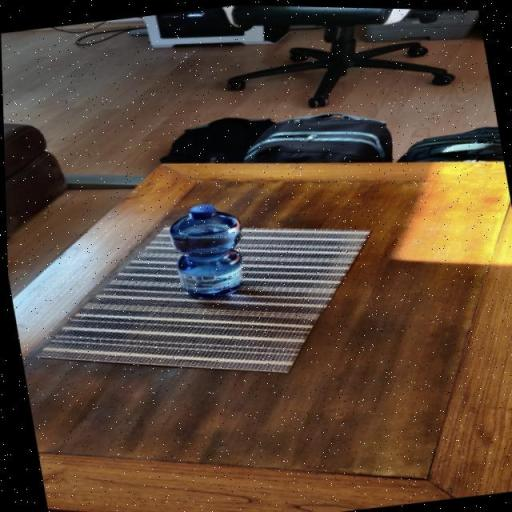plastic: (160, 196, 254, 306)
